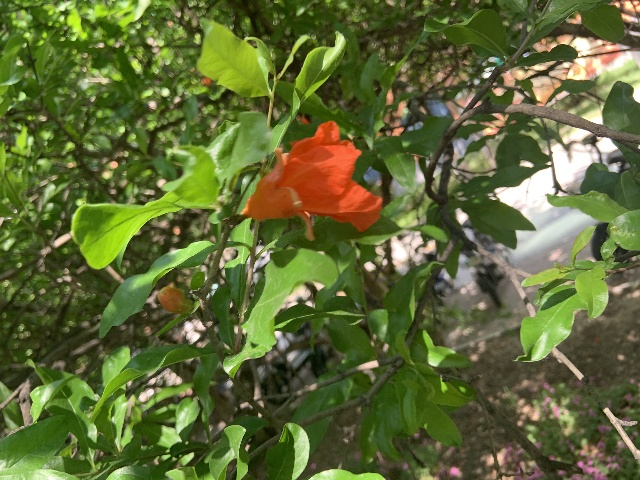bud: (156, 286, 193, 313)
flower: (241, 119, 382, 240)
